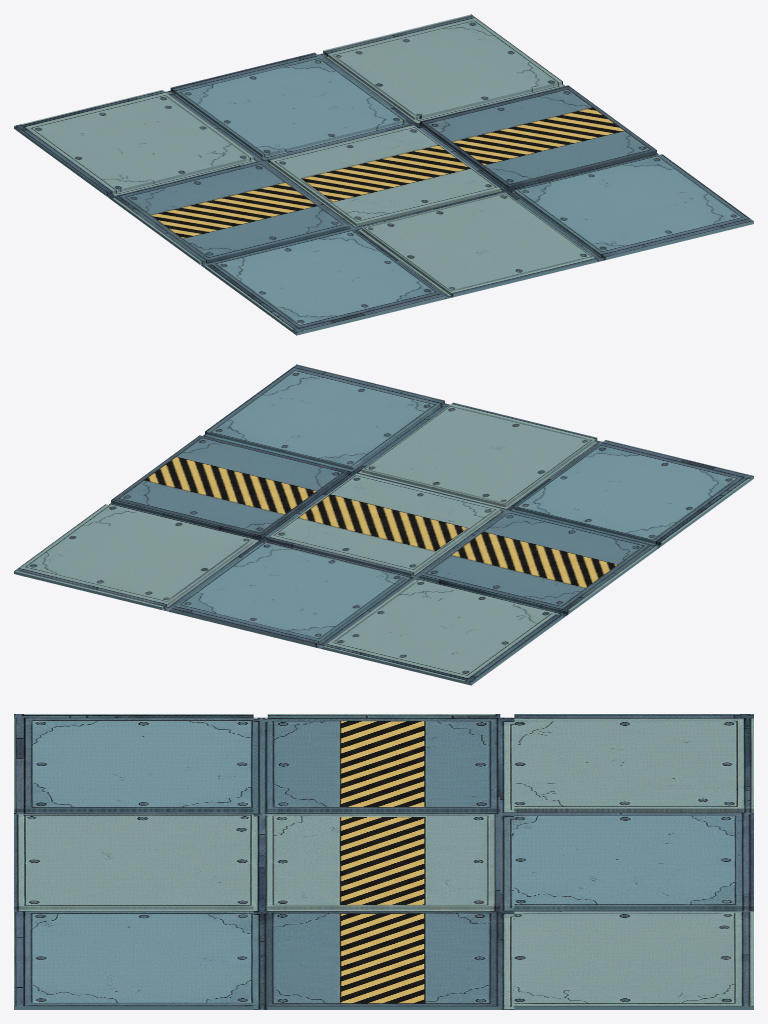
Rendered from Ground.fbx.
3 renders of one model, top to bottom at view 1: azimuth 30°, elevation 25°; view 2: azimuth 150°, elevation 25°; view 3: azimuth 270°, elevation 25°, orthographic. The views are drawn at different scales.
Parts seen in each view (by area): view 1: Ground; view 2: Ground; view 3: Ground.
Part boxes in pixels (x1,y1,x2,y2): Ground: (14,14,753,335); Ground: (14,364,753,685); Ground: (14,714,753,1009).
Bounding box in the file's own units: 1005 × 1076 × 5.76.
Materials: 1 (1 with a texture image).
